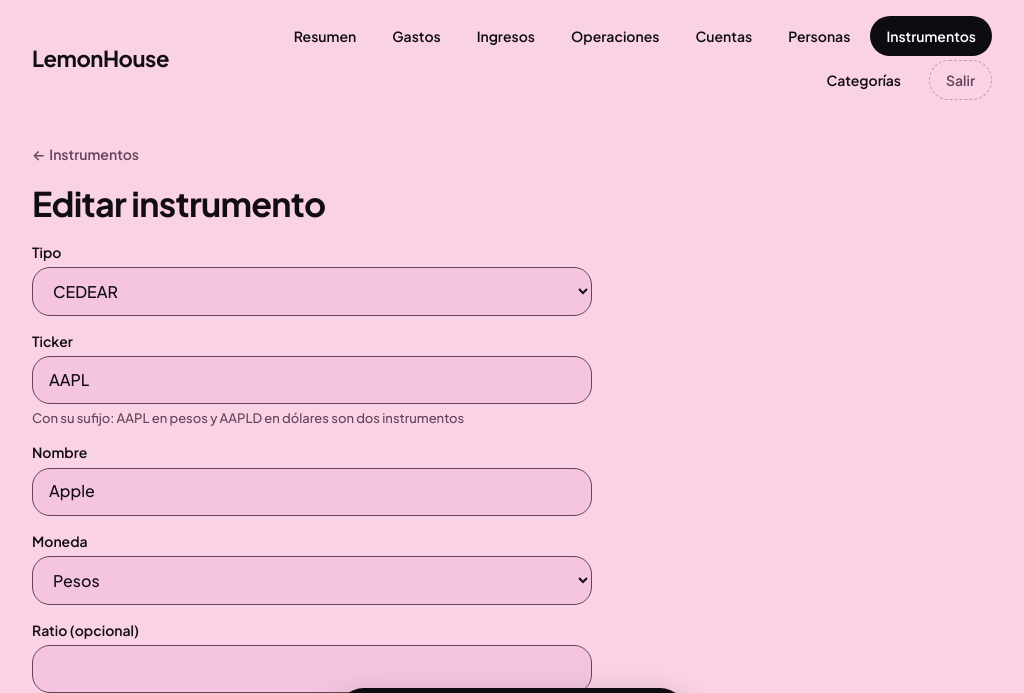
instrumentos › cambiar el tipo de uno con operaciones se rechaza en el campo del tipo
Select "Acción" in the dropdown labelled "Tipo" at (312,292), box [32,267,592,316]
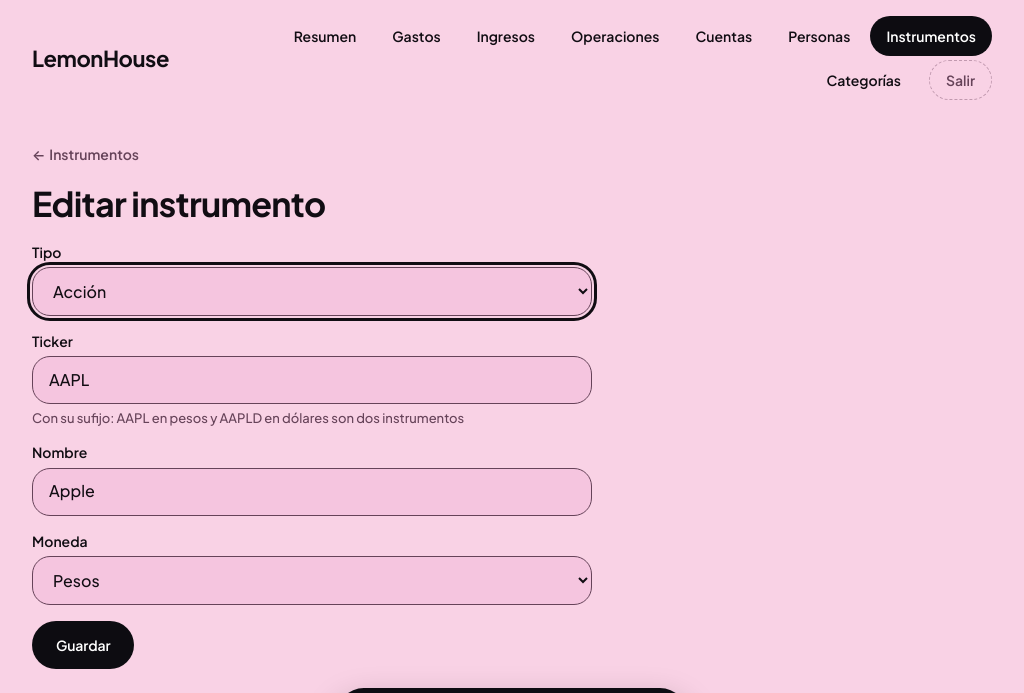
Click the button "Guardar" at (83,645), box [32,621,134,669]
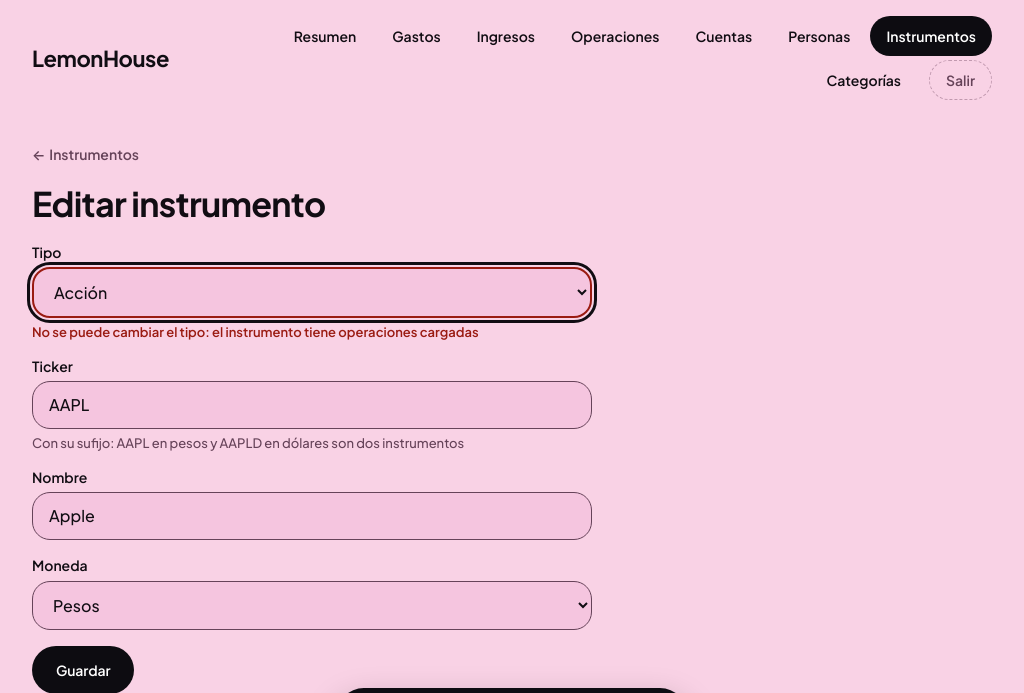
Expected: the text "No se puede cambiar el tipo: el instrumento tiene operaciones cargadas" is shown, [32,324,479,340]
